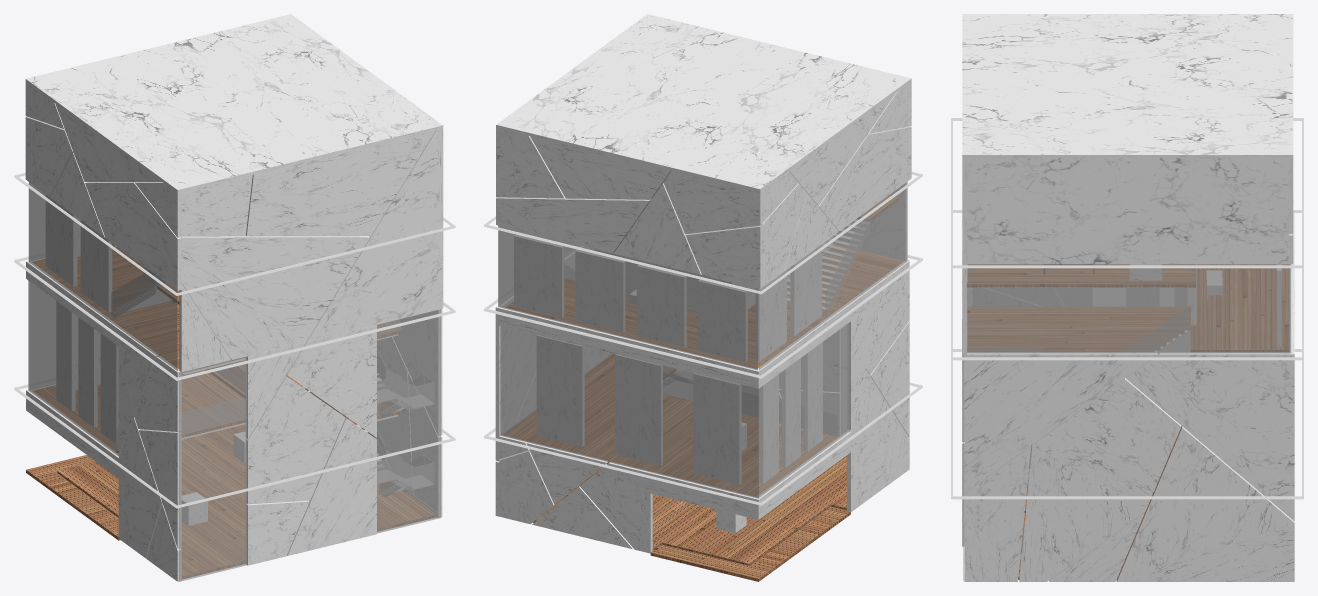
File: Dao Gallery Rev2.glb
3 views of the same model, side by side, from view 1: azimuth 30°, elevation 25°; view 2: azimuth 150°, elevation 25°; view 3: azimuth 270°, elevation 25° (orthographic). The views are drawn at different scales.
Visible parts, largest first — view 1: IfcWall/Basic Wall:Generic - 200mm:347811, IfcPlate/System Panel:Glazed:345896, IfcSlab/Floor:Generic 150mm:353797, IfcBuildingElementProxy/Generic Models 14:Generic Models 14:, IfcSlab/Assembled Stair:Stair:356426 Landing 1; view 2: IfcWall/Basic Wall:Generic - 200mm:347811, IfcPlate/System Panel:Glazed:345896, IfcSlab/Floor:Generic 150mm:353797, IfcBuildingElementProxy/Generic Models 14:Generic Models 14:, IfcSlab/Assembled Stair:Stair:356426 Landing 1; view 3: IfcWall/Basic Wall:Generic - 200mm:347811, IfcPlate/System Panel:Glazed:345896, IfcSlab/Floor:Generic 150mm:353797, IfcBuildingElementProxy/Generic Models 14:Generic Models 14:.
Boxes of the visible parts, x1,y1,x2,y2 form: IfcWall/Basic Wall:Generic - 200mm:347811: (25,14,443,581); IfcPlate/System Panel:Glazed:345896: (28,182,440,581); IfcSlab/Floor:Generic 150mm:353797: (26,247,436,579); IfcBuildingElementProxy/Generic Models 14:Generic Models 14:: (14,172,455,508); IfcSlab/Assembled Stair:Stair:356426 Landing 1: (112,284,436,513); IfcWall/Basic Wall:Generic - 200mm:347811: (495,14,911,553); IfcPlate/System Panel:Glazed:345896: (498,182,909,498); IfcSlab/Floor:Generic 150mm:353797: (503,171,903,581); IfcBuildingElementProxy/Generic Models 14:Generic Models 14:: (484,171,922,505); IfcSlab/Assembled Stair:Stair:356426 Landing 1: (502,194,898,548); IfcWall/Basic Wall:Generic - 200mm:347811: (962,14,1294,581); IfcPlate/System Panel:Glazed:345896: (963,264,1290,580); IfcSlab/Floor:Generic 150mm:353797: (967,264,1289,579); IfcBuildingElementProxy/Generic Models 14:Generic Models 14:: (951,118,1303,499).
Size of what is drawn, in the model's own units: 14.5 by 19.6 by 14.6.
Materials: 9 (2 with a texture image).
